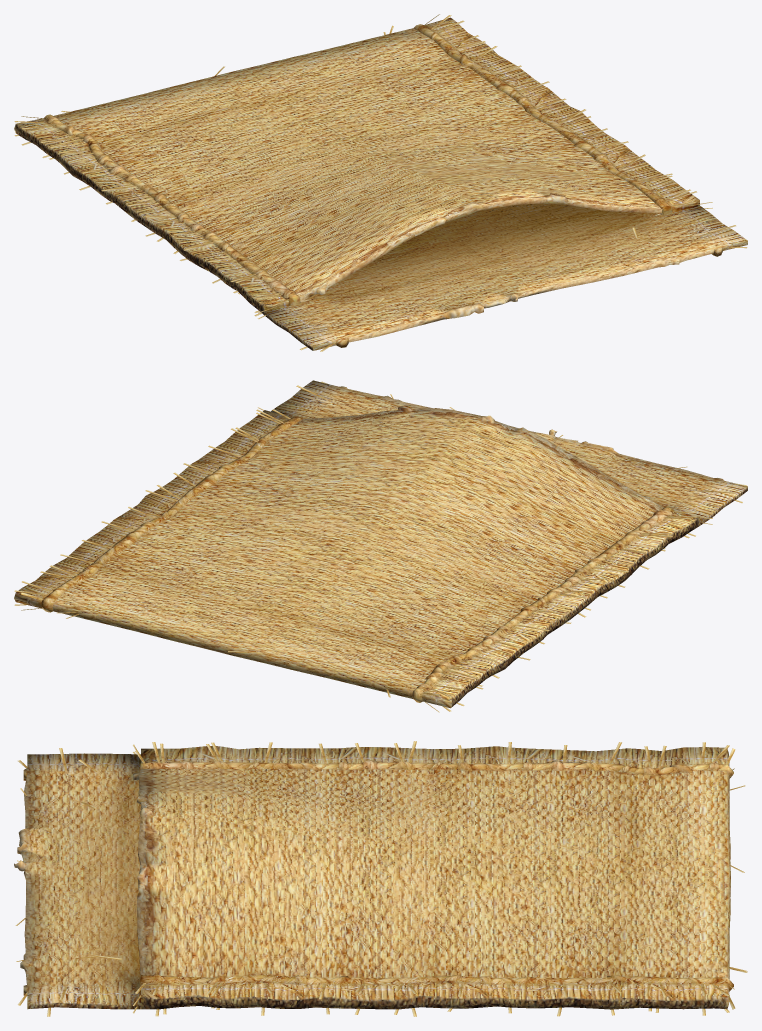
The model's file is SM_RiceBale.fbx.
3 renders of one model, top to bottom at view 1: azimuth 30°, elevation 25°; view 2: azimuth 150°, elevation 25°; view 3: azimuth 270°, elevation 25°, orthographic. The views are drawn at different scales.
Parts seen in each view (by area): view 1: SM_RiceBale_LOD0; view 2: SM_RiceBale_LOD0; view 3: SM_RiceBale_LOD0.
Boxes of the visible parts, left/top/right/bottom form: SM_RiceBale_LOD0: left=14, top=14, right=747, bottom=351; SM_RiceBale_LOD0: left=14, top=380, right=747, bottom=712; SM_RiceBale_LOD0: left=14, top=741, right=747, bottom=1016.
Size of the model in its own units: 76.4 by 10.54 by 90.65.
